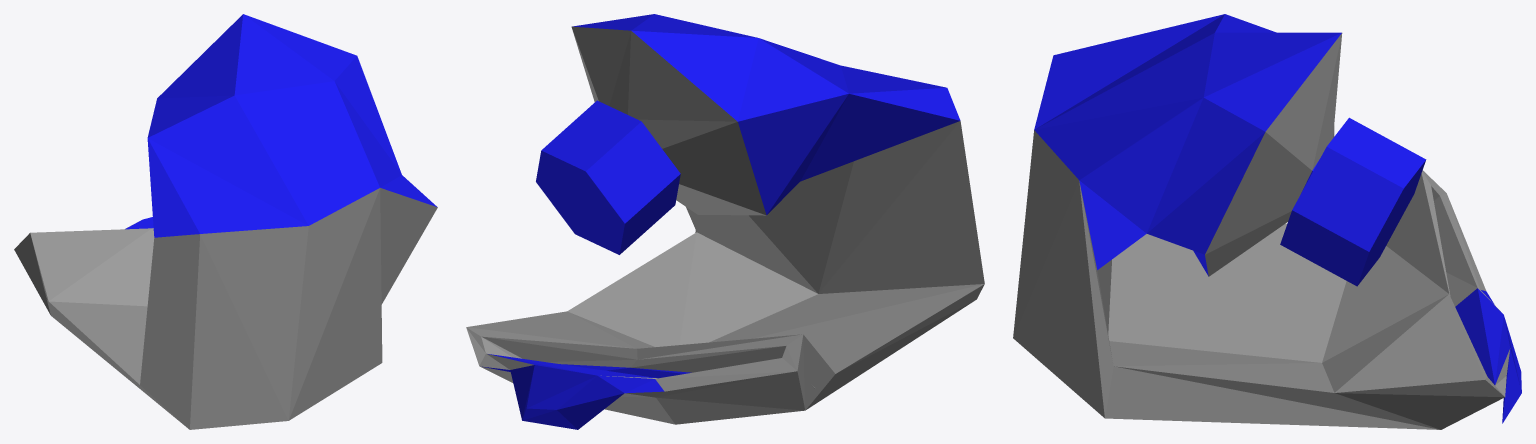
File: pig_B.FBX
3 renders of one model, left to right at view 1: azimuth 30°, elevation 25°; view 2: azimuth 150°, elevation 25°; view 3: azimuth 270°, elevation 25°, orthographic. The views are drawn at different scales.
Parts seen in each view (by area): view 1: Cylinder001; view 2: Cylinder001; view 3: Cylinder001.
Boxes of the visible parts, box(x1,y1,x2,y2) form: Cylinder001: box(14, 14, 437, 429); Cylinder001: box(466, 14, 984, 429); Cylinder001: box(1013, 14, 1521, 429).
Size of the model in its own units: 21.96 by 20.9 by 25.83.
